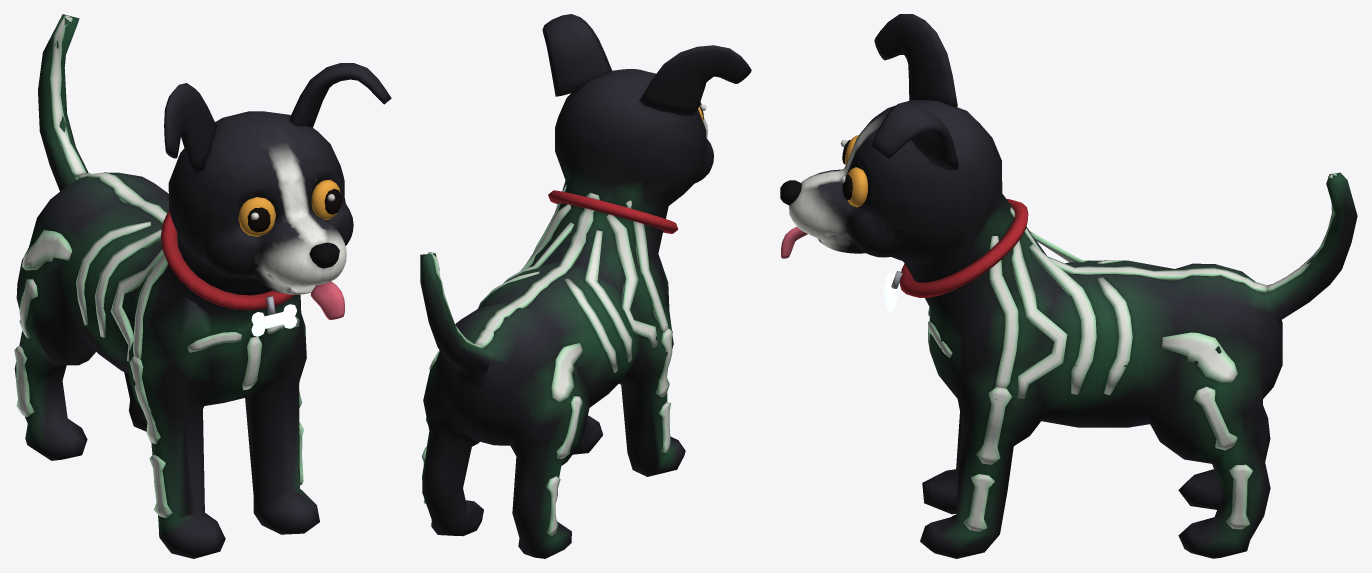
The model's file is skeletondog.fbx.
3 renders of one model, left to right at view 1: azimuth 30°, elevation 25°; view 2: azimuth 150°, elevation 25°; view 3: azimuth 270°, elevation 25°, orthographic. The views are drawn at different scales.
Visible parts, largest first — view 1: SkeletonDog_Body, SkeletonDog_Eyes, SkeletonDog_GLOW; view 2: SkeletonDog_Body; view 3: SkeletonDog_Body, SkeletonDog_Eyes.
Part boxes in pixels (x1=…): SkeletonDog_Body: x1=14, y1=14, x2=391, y2=558; SkeletonDog_Eyes: x1=238, y1=179, x2=340, y2=236; SkeletonDog_GLOW: x1=251, y1=304, x2=296, y2=336; SkeletonDog_Body: x1=420, y1=14, x2=751, y2=558; SkeletonDog_Body: x1=780, y1=14, x2=1357, y2=558; SkeletonDog_Eyes: x1=845, y1=135, x2=867, y2=207.
Bounding box in the file's own units: 1.67 × 3.36 × 3.71.
3 materials, 1 textured.
